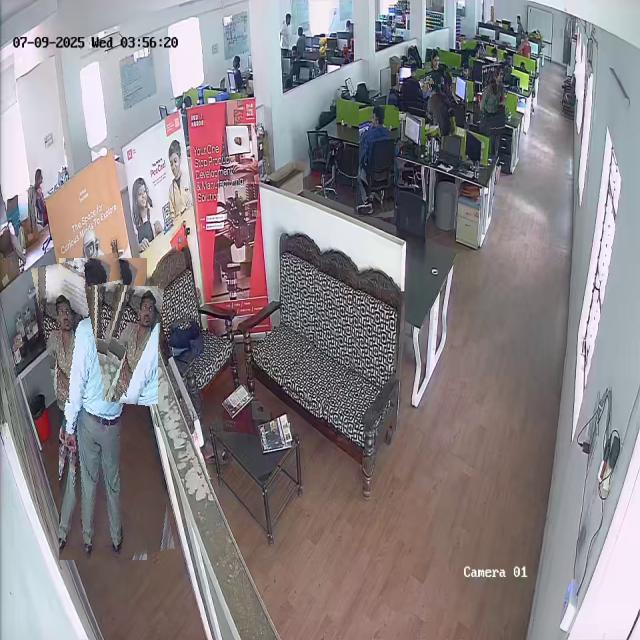person: (45, 255, 161, 563), (105, 285, 161, 405), (356, 105, 397, 218), (478, 64, 509, 136), (422, 72, 455, 137), (30, 166, 53, 214), (425, 50, 444, 84)
